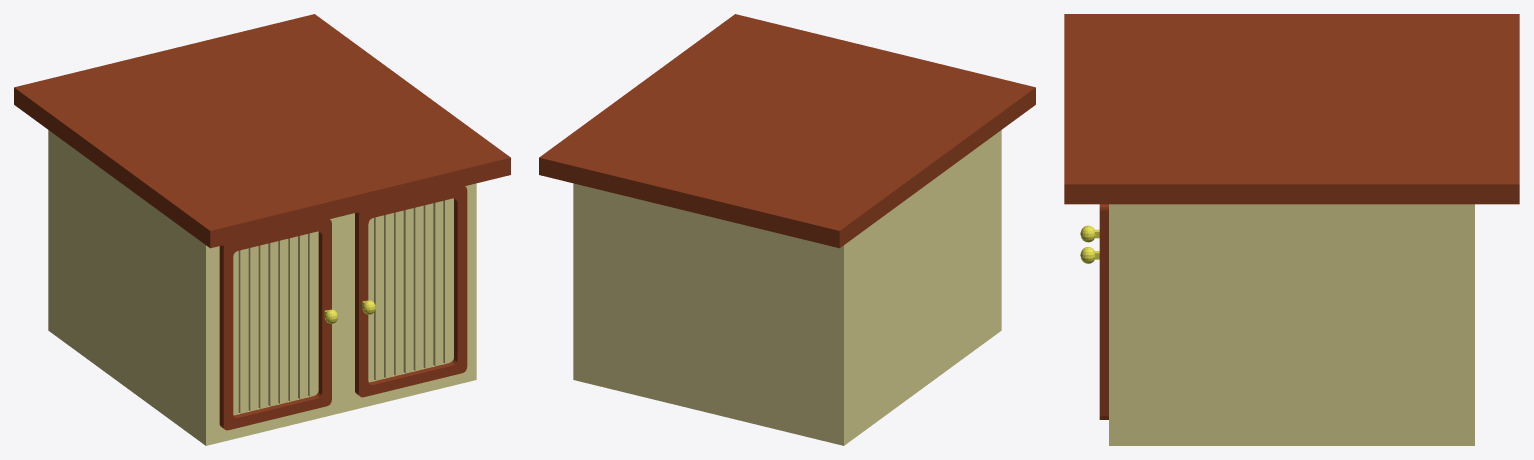
File: Countertop.fbx
3 renders of one model, left to right at view 1: azimuth 30°, elevation 25°; view 2: azimuth 150°, elevation 25°; view 3: azimuth 270°, elevation 25°, orthographic. The views are drawn at different scales.
Visible parts, largest first — view 1: Countertop; view 2: Countertop; view 3: Countertop.
Boxes of the visible parts, bbox=[...] form: Countertop: bbox=[14, 14, 510, 445]; Countertop: bbox=[539, 14, 1035, 445]; Countertop: bbox=[1064, 14, 1519, 445].
Size of the model in its own units: 225 by 166 by 254.
